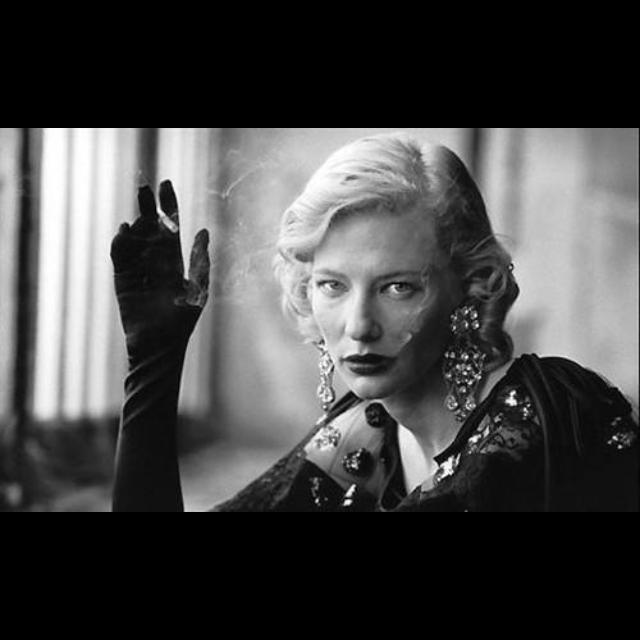rokok: (156, 210, 180, 234)
